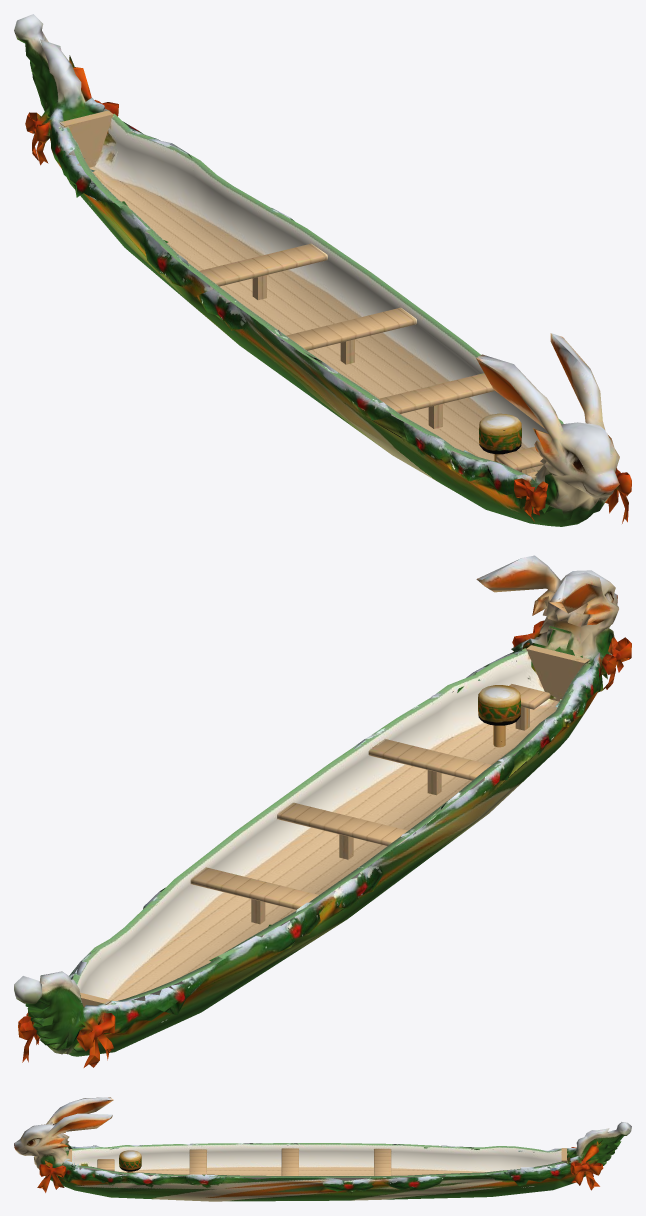
Rendered from Boat_Hare.glb.
3 renders of one model, top to bottom at view 1: azimuth 30°, elevation 25°; view 2: azimuth 150°, elevation 25°; view 3: azimuth 270°, elevation 25°, orthographic. The views are drawn at different scales.
Visible parts, largest first — view 1: Boat_Hare, Drum; view 2: Boat_Hare, Drum; view 3: Boat_Hare, Drum.
Part boxes in pixels (x1=…): Boat_Hare: x1=14, y1=14, x2=631, y2=526; Drum: x1=479, y1=413, x2=521, y2=462; Boat_Hare: x1=14, y1=555, x2=631, y2=1067; Drum: x1=478, y1=685, x2=520, y2=747; Boat_Hare: x1=14, y1=1097, x2=631, y2=1201; Drum: x1=119, y1=1150, x2=141, y2=1172.
Size of what is drawn, in the model's own units: 1.63 by 1.76 by 11.4.
Materials: 1 (1 with a texture image).
